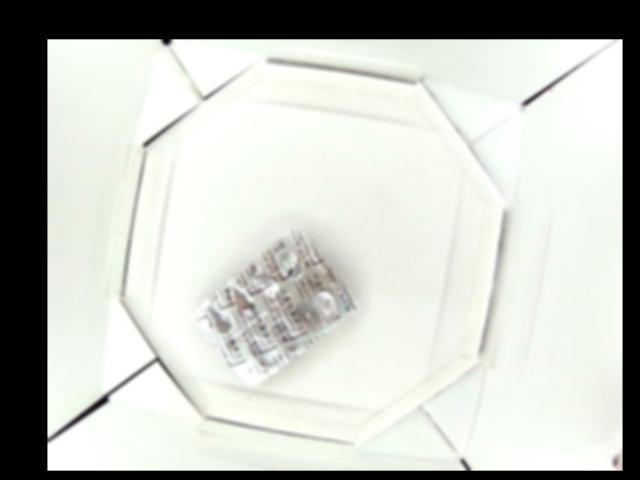Medicine: (194, 228, 357, 386)
